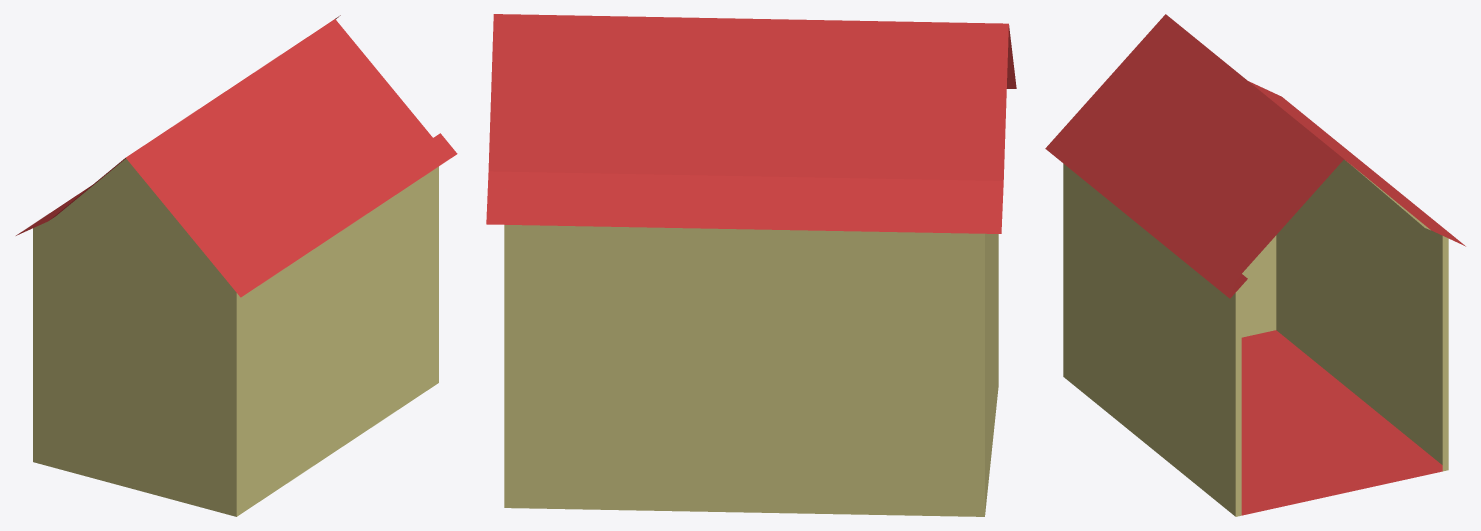
The picture shows the model from 3 angles, left to right: view 1: azimuth 30°, elevation 25°; view 2: azimuth 150°, elevation 25°; view 3: azimuth 270°, elevation 25°; orthographic projection. The views are drawn at different scales.
Size of the model in its own units: 17.73 by 15.62 by 13.65.
